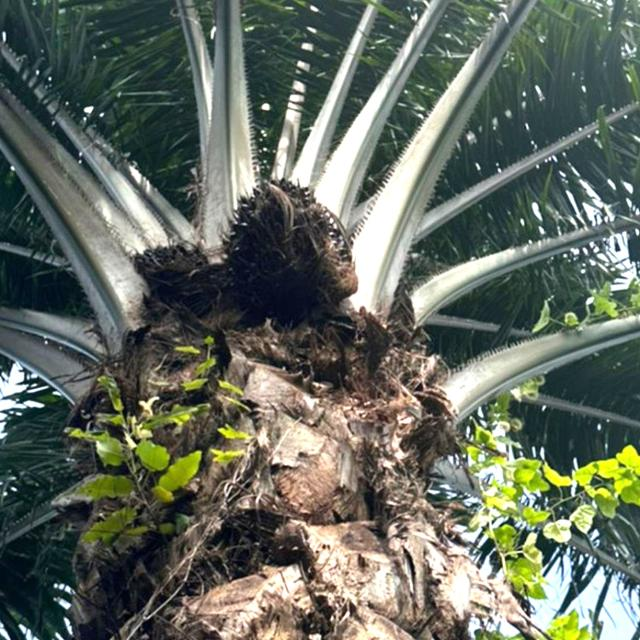ripe: (207, 155, 373, 334)
